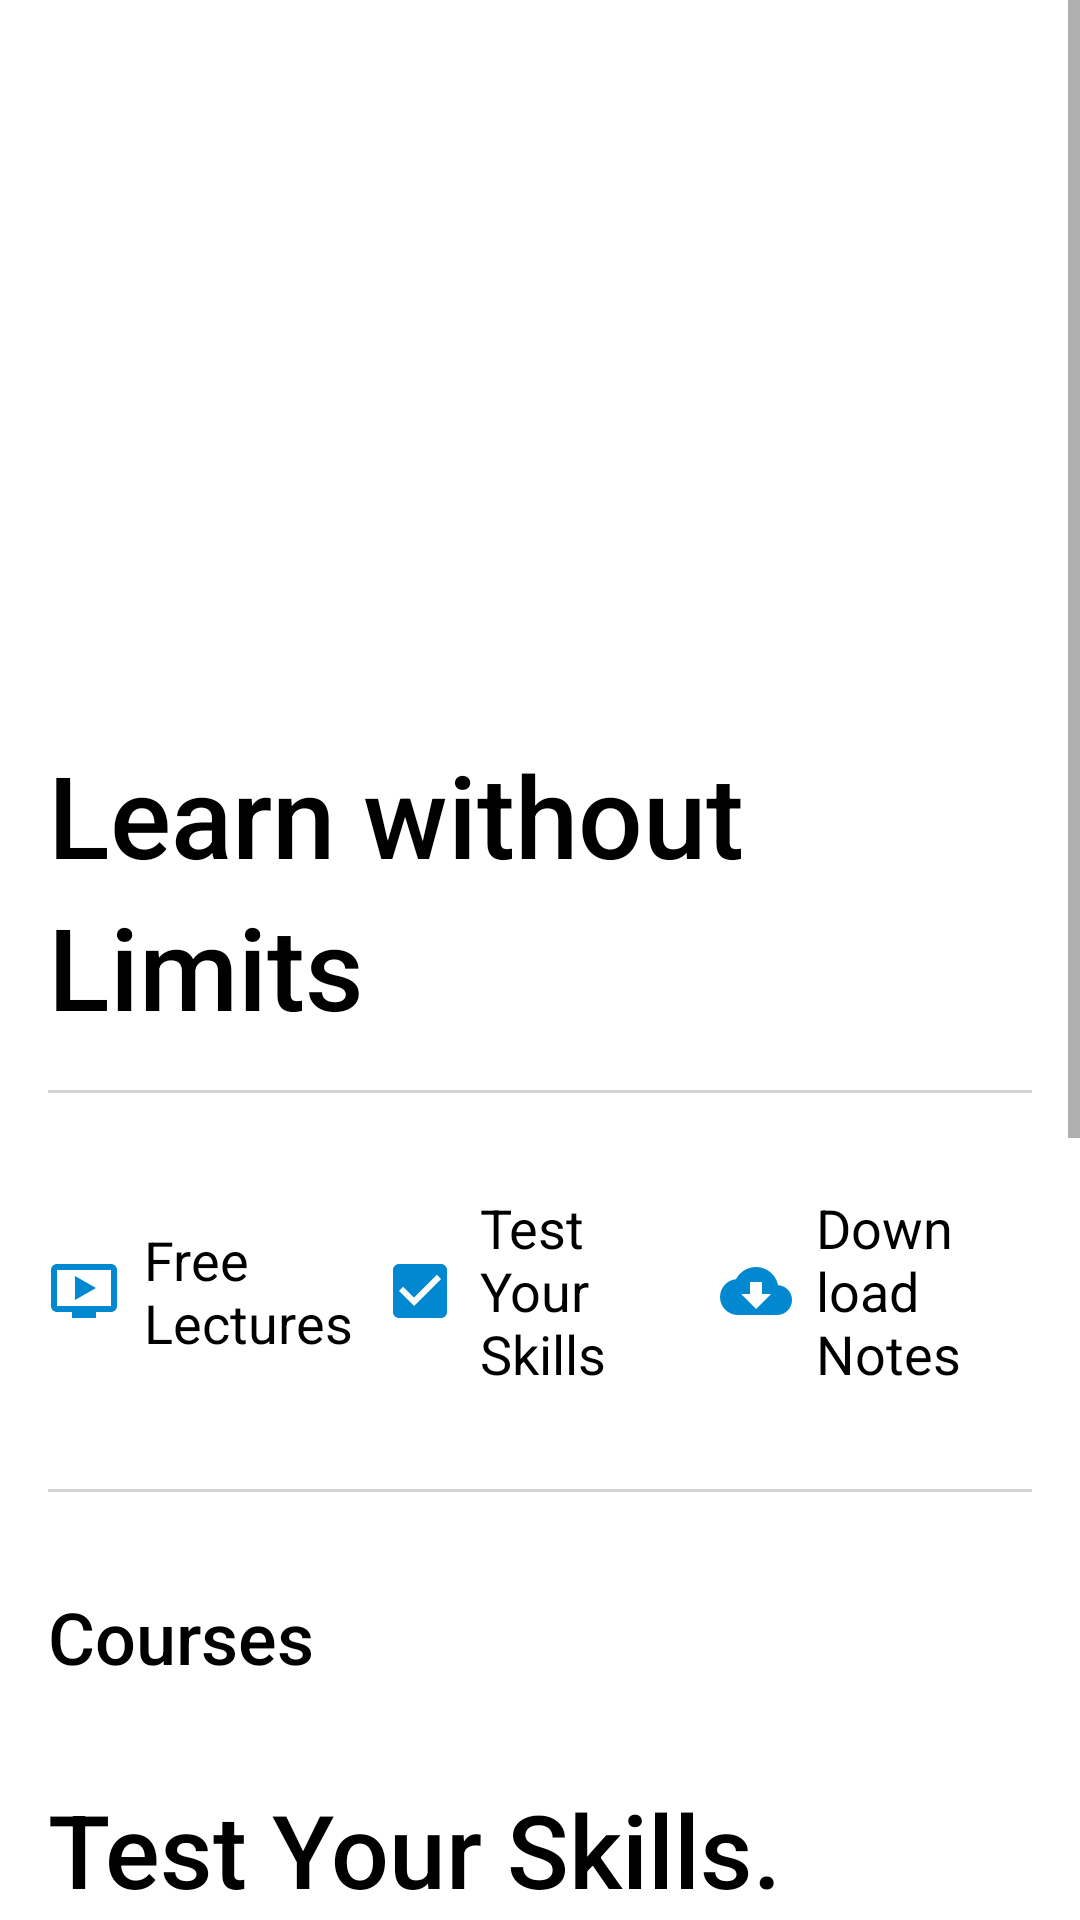

Icon bounding boxes for this 1080 × 1920 phone screenshot, format bbox=(x1, y1, x2, y2):
video: bbox=(51, 1264, 117, 1318)
